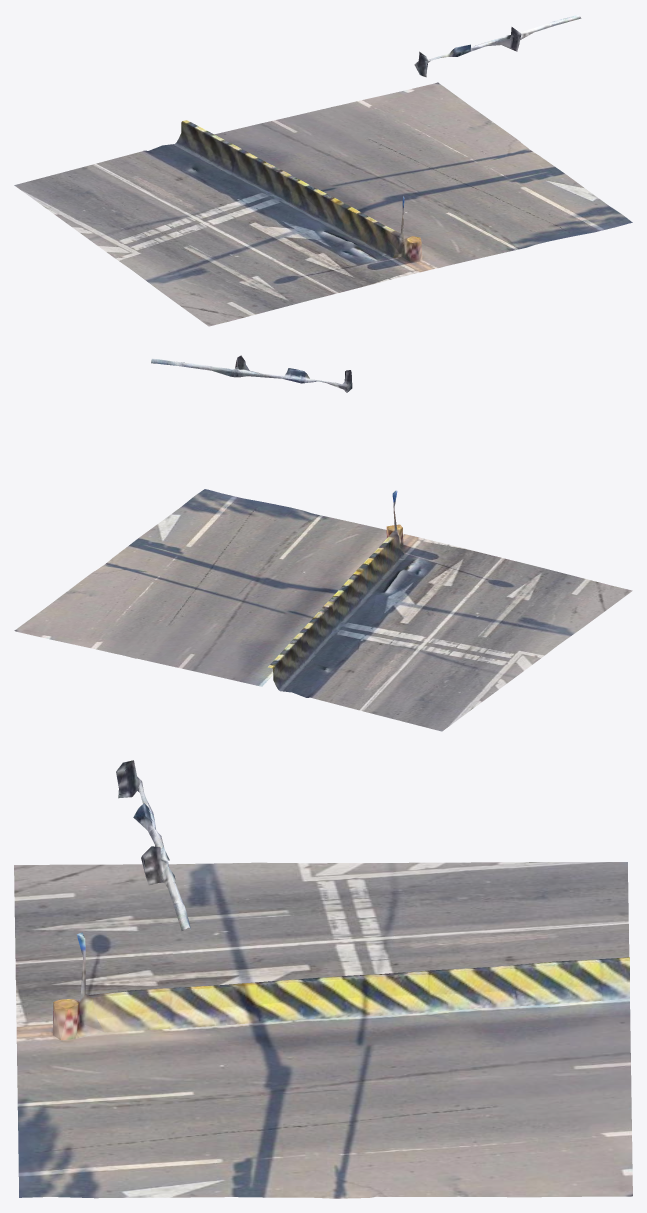
Rendered from Tile_+006_+007_L21_000100t3.glb.
The picture shows the model from 3 angles, top to bottom: view 1: azimuth 30°, elevation 25°; view 2: azimuth 150°, elevation 25°; view 3: azimuth 270°, elevation 25°; orthographic projection. The views are drawn at different scales.
Visible parts, largest first — view 1: rtc; view 2: rtc; view 3: rtc.
Part boxes in pixels (left/top/right/bottom): rtc: left=14, top=14, right=632, bottom=326; rtc: left=14, top=355, right=632, bottom=731; rtc: left=14, top=760, right=632, bottom=1198.
Size of the model in its own units: 17.85 by 7.54 by 14.03.
1 material, 1 textured.
